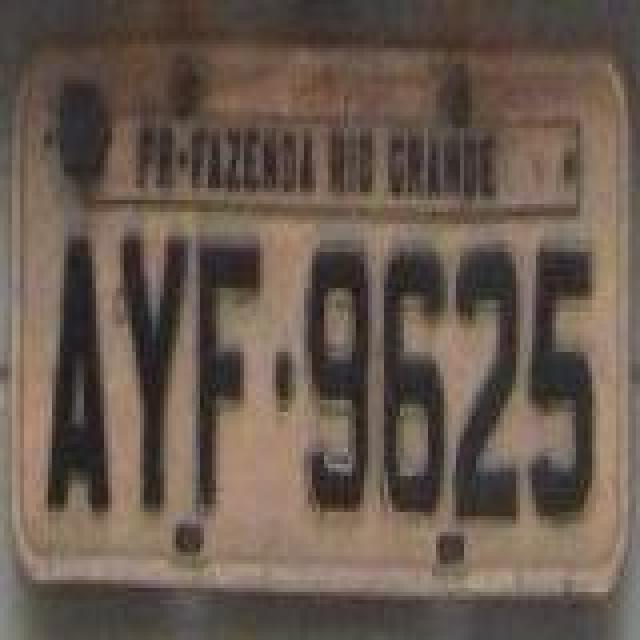2: (454, 240, 522, 528)
5: (524, 246, 596, 522)
6: (384, 248, 448, 520)
9: (302, 238, 370, 514)
A: (46, 232, 114, 520)
F: (194, 240, 262, 512)
Y: (116, 230, 188, 514)
